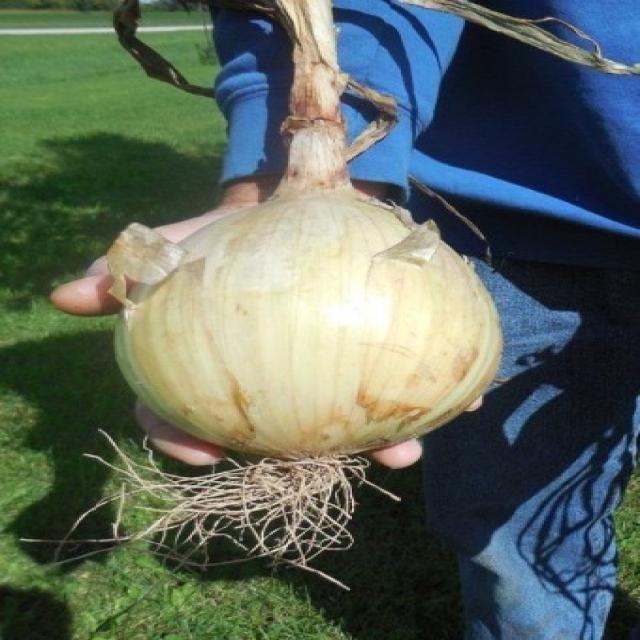onion: (96, 115, 532, 595)
